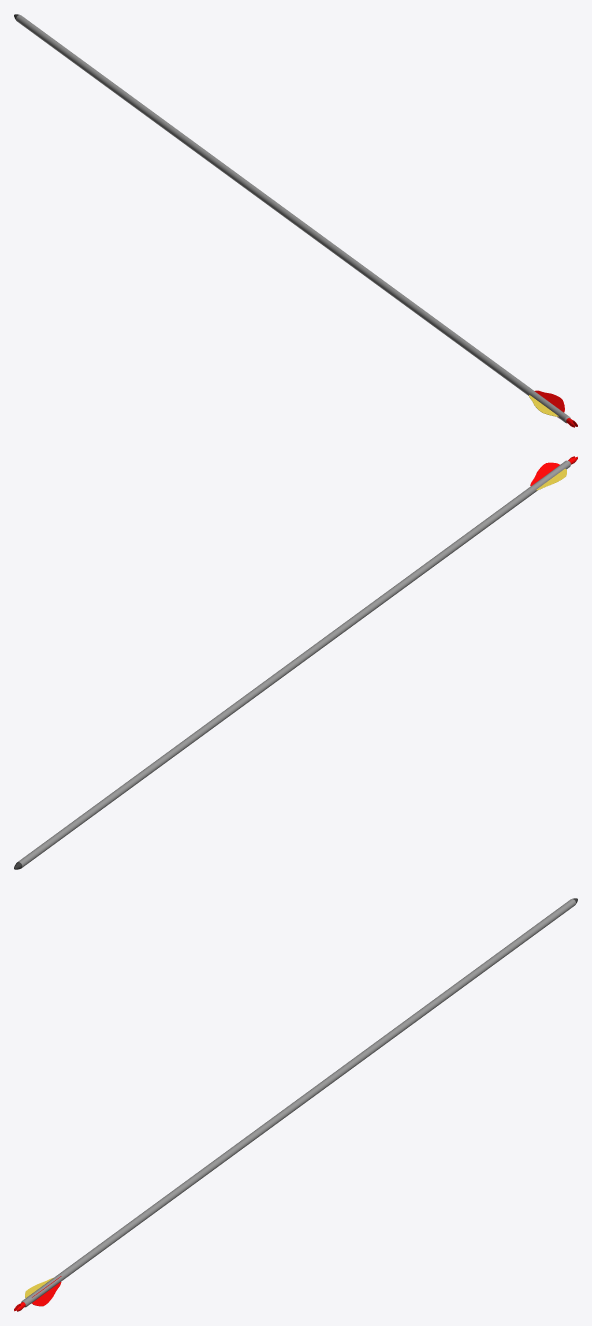
The model's file is CarbonArrow.FBX.
The picture shows the model from 3 angles, top to bottom: view 1: azimuth 30°, elevation 25°; view 2: azimuth 150°, elevation 25°; view 3: azimuth 330°, elevation 25°; orthographic projection.
Parts seen in each view (by area): view 1: Cylinder01; view 2: Cylinder01; view 3: Cylinder01.
Part boxes in pixels (x1=…): Cylinder01: x1=14, y1=14, x2=577, y2=427; Cylinder01: x1=14, y1=456, x2=577, y2=869; Cylinder01: x1=14, y1=898, x2=577, y2=1311.
Bounding box in the file's own units: 0.1263 × 0.1162 × 6.07.
